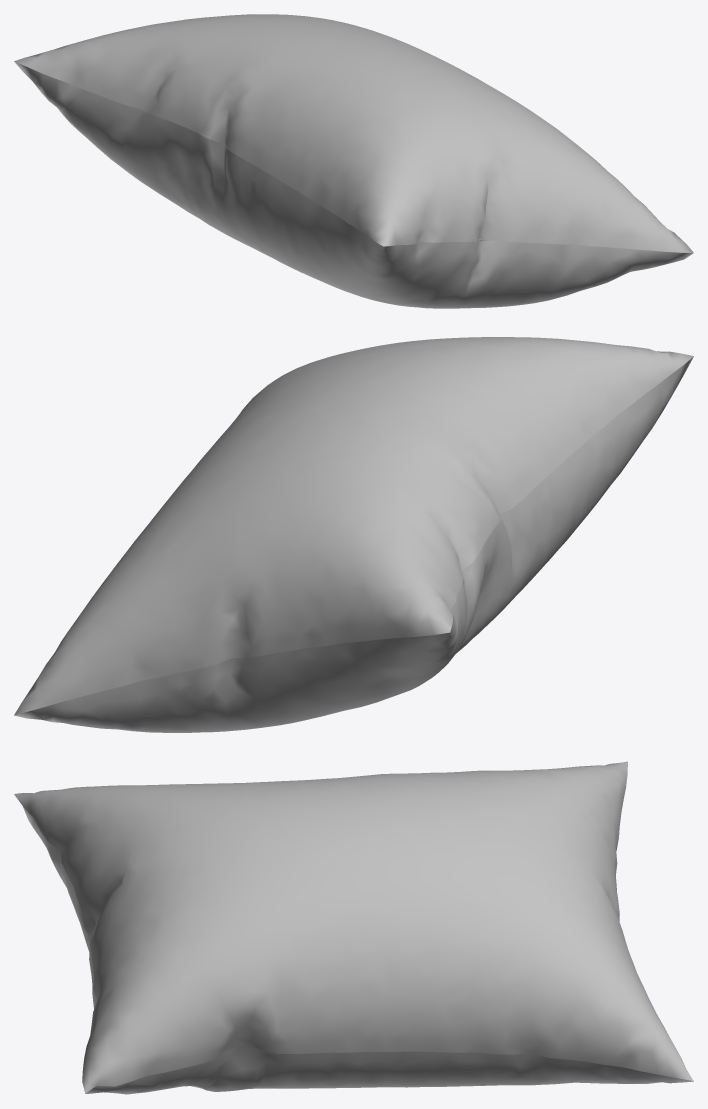
Rendered from SM_pillow.FBX.
3 renders of one model, top to bottom at view 1: azimuth 30°, elevation 25°; view 2: azimuth 150°, elevation 25°; view 3: azimuth 270°, elevation 25°, orthographic. The views are drawn at different scales.
Parts seen in each view (by area): view 1: SM_pillow; view 2: SM_pillow; view 3: SM_pillow.
Part boxes in pixels (x1,y1,x2,y2): SM_pillow: (14,14,693,308); SM_pillow: (14,337,693,732); SM_pillow: (14,761,693,1094).
Size of the model in its own units: 184 by 241 by 95.36.
Materials: 1 (1 with a texture image).
